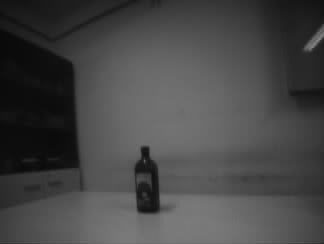Bottle: (133, 143, 160, 213)
